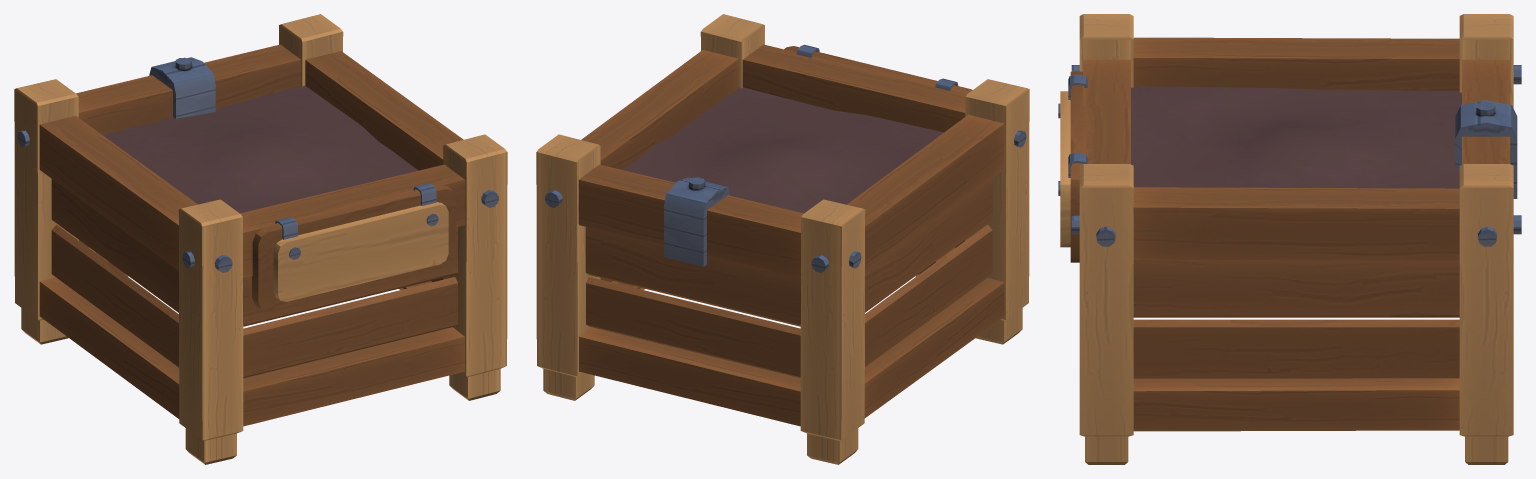
The model's file is planterBox.glb.
3 views of the same model, side by side, from view 1: azimuth 30°, elevation 25°; view 2: azimuth 150°, elevation 25°; view 3: azimuth 270°, elevation 25° (orthographic). The views are drawn at different scales.
Visible parts, largest first — view 1: PlanterBox_newMat; view 2: PlanterBox_newMat; view 3: PlanterBox_newMat.
Boxes of the visible parts, box(x1,y1,x2,y2) form: PlanterBox_newMat: box(14, 14, 507, 464); PlanterBox_newMat: box(536, 14, 1029, 464); PlanterBox_newMat: box(1058, 14, 1521, 464).
Size of what is drawn, in the model's own units: 1.77 by 1.32 by 1.95.
Materials: 1 (1 with a texture image).
